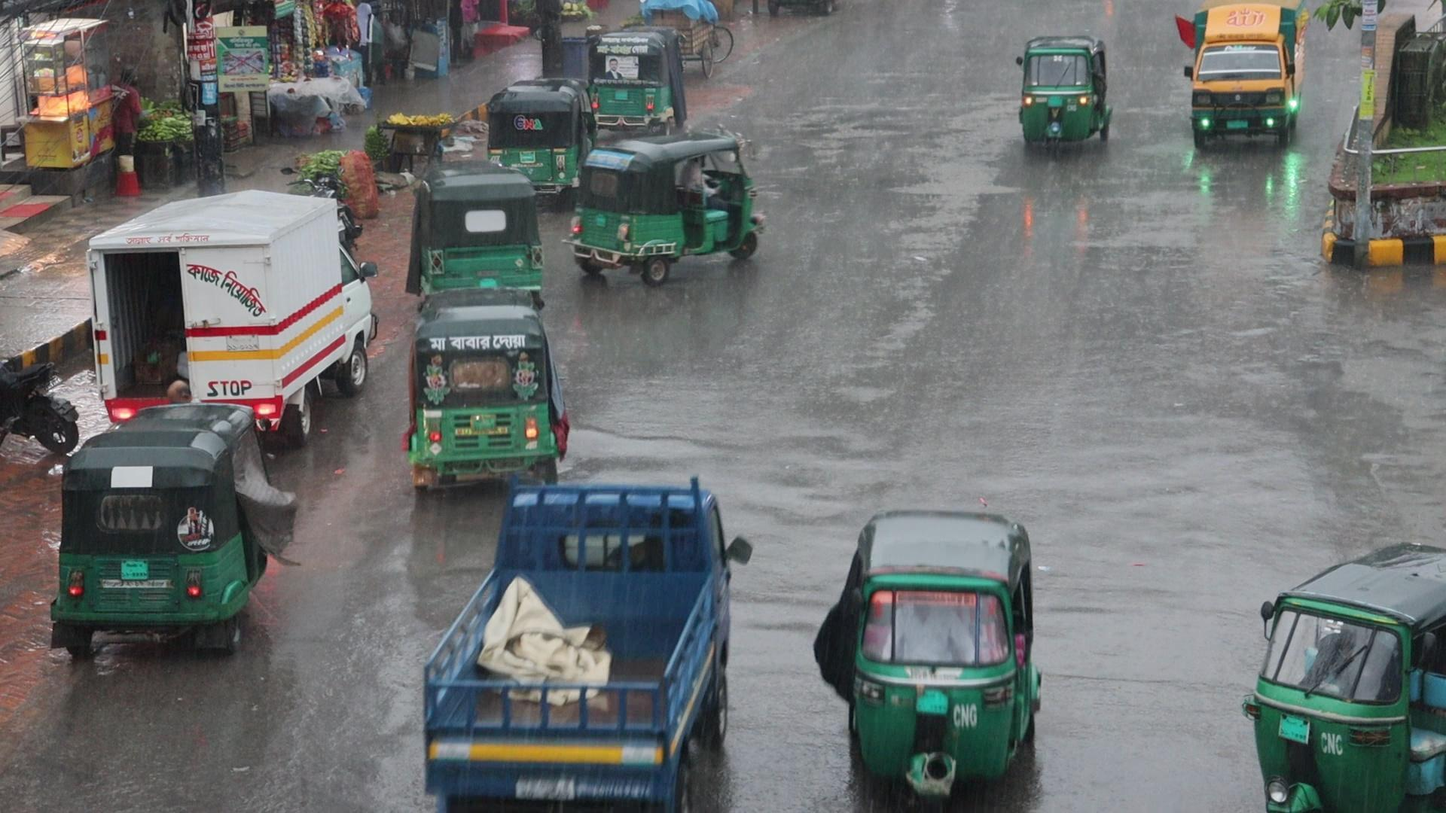Truck: (412, 449, 756, 813), (1182, 0, 1307, 151)
